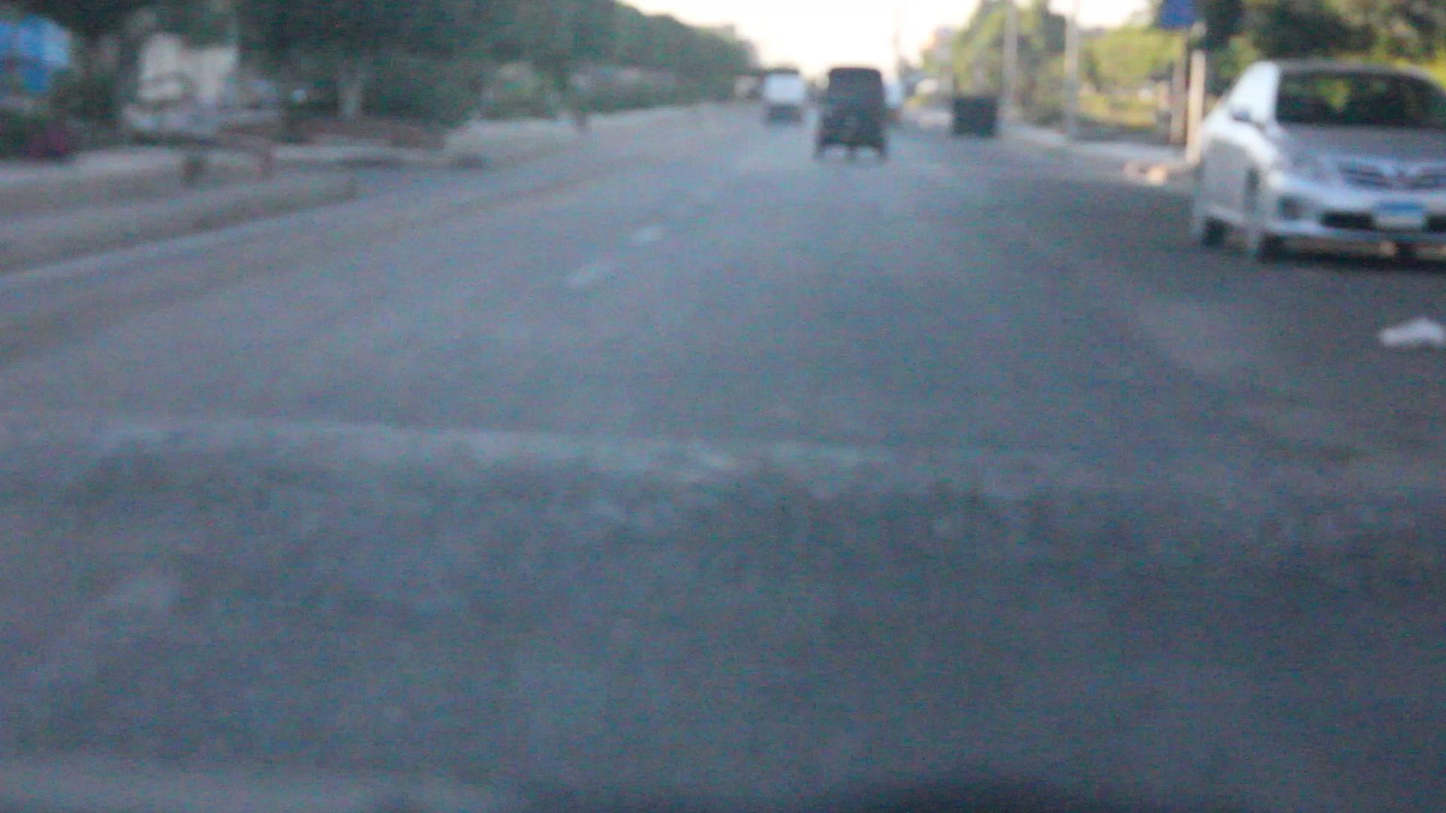Bump: (0, 412, 1445, 687)
